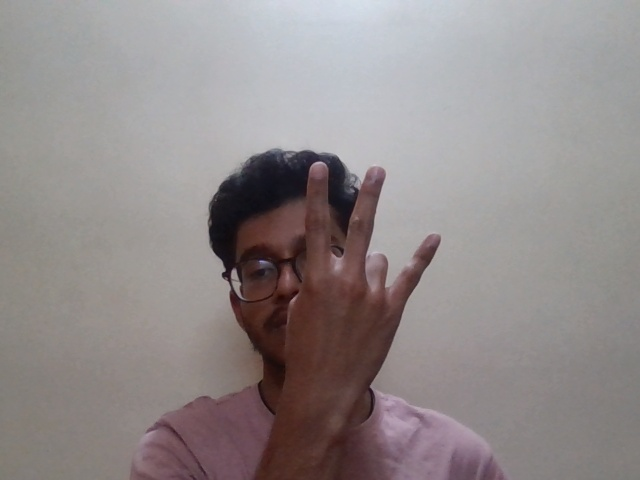why: (304, 150, 437, 353)
